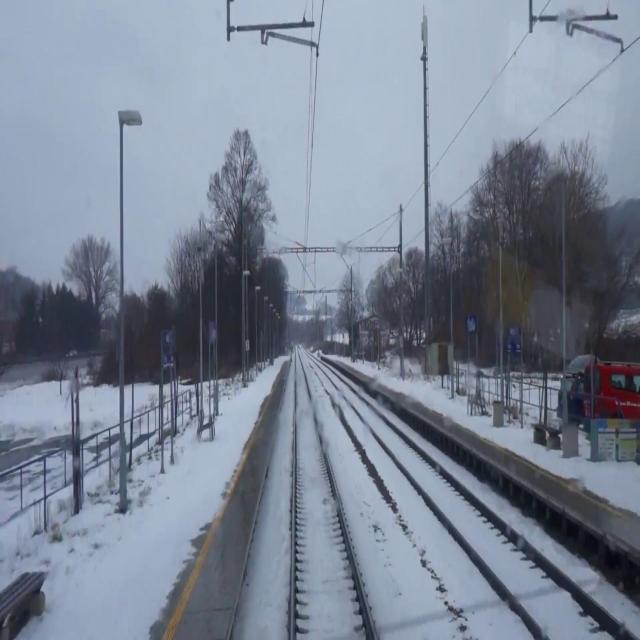rail-track: (324, 367, 631, 639), (295, 353, 373, 639)
